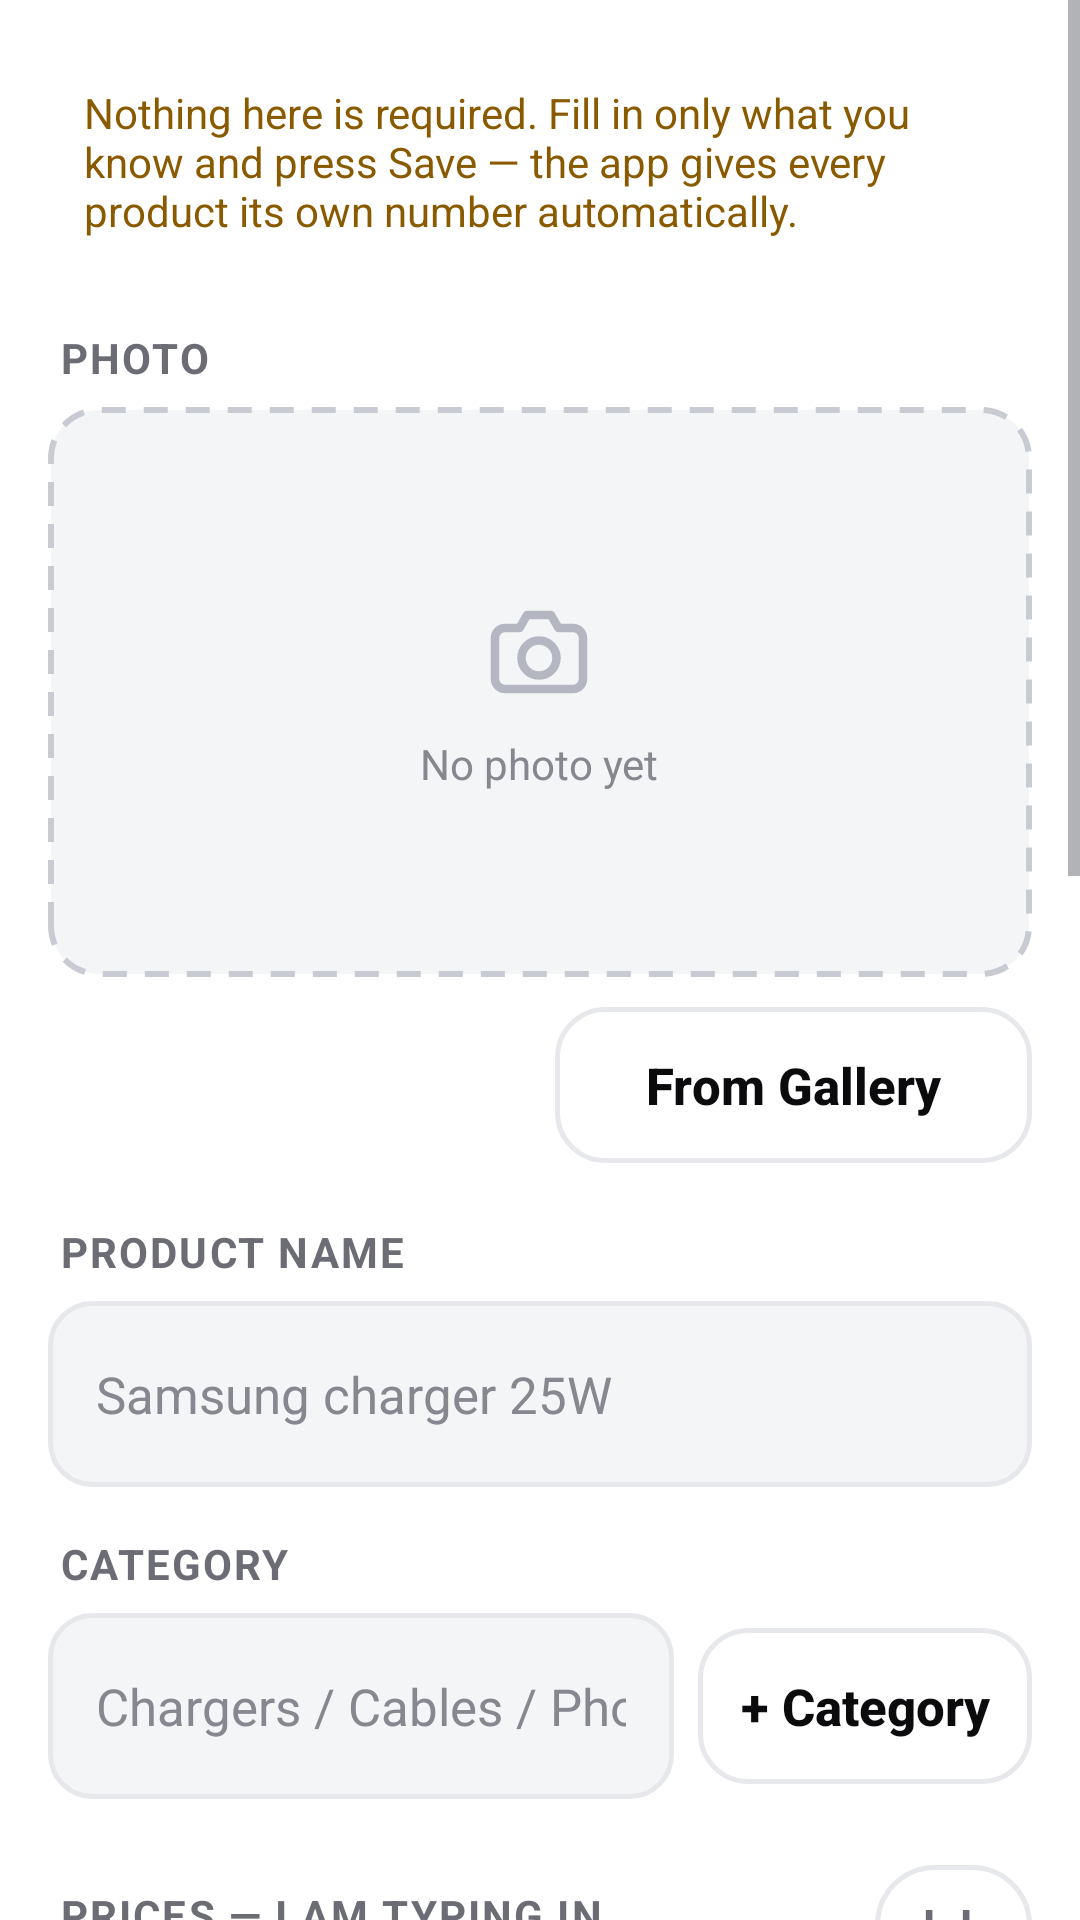

Icon bounding boxes for this 1080 × 1920 phone screenshot, format (x1, y1, x2, y2):
camera: (491, 611, 587, 693)
